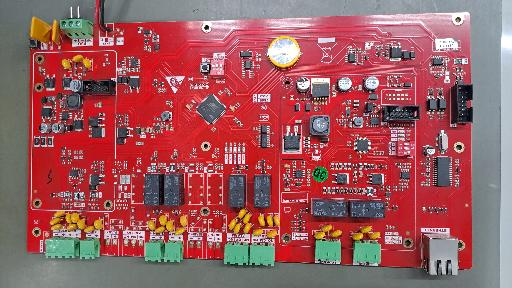var: (29, 14, 52, 48), (70, 212, 80, 223), (72, 54, 84, 63), (159, 214, 168, 226), (77, 218, 86, 230), (62, 59, 71, 70), (83, 58, 92, 69), (314, 231, 325, 240), (228, 219, 237, 230), (94, 219, 103, 230), (53, 211, 67, 218), (49, 218, 63, 225), (243, 212, 251, 224), (243, 222, 251, 234), (166, 220, 174, 232), (368, 232, 381, 239), (238, 208, 247, 218), (273, 215, 281, 226), (148, 220, 156, 231), (233, 223, 241, 234), (84, 225, 95, 233), (258, 215, 265, 227), (266, 215, 273, 227), (180, 215, 187, 227), (360, 226, 372, 233), (321, 225, 333, 232), (330, 230, 342, 237), (51, 224, 64, 230), (253, 229, 264, 236), (175, 228, 186, 235), (155, 226, 166, 233), (66, 223, 77, 230), (65, 213, 72, 224), (267, 230, 277, 237), (353, 233, 363, 240)
